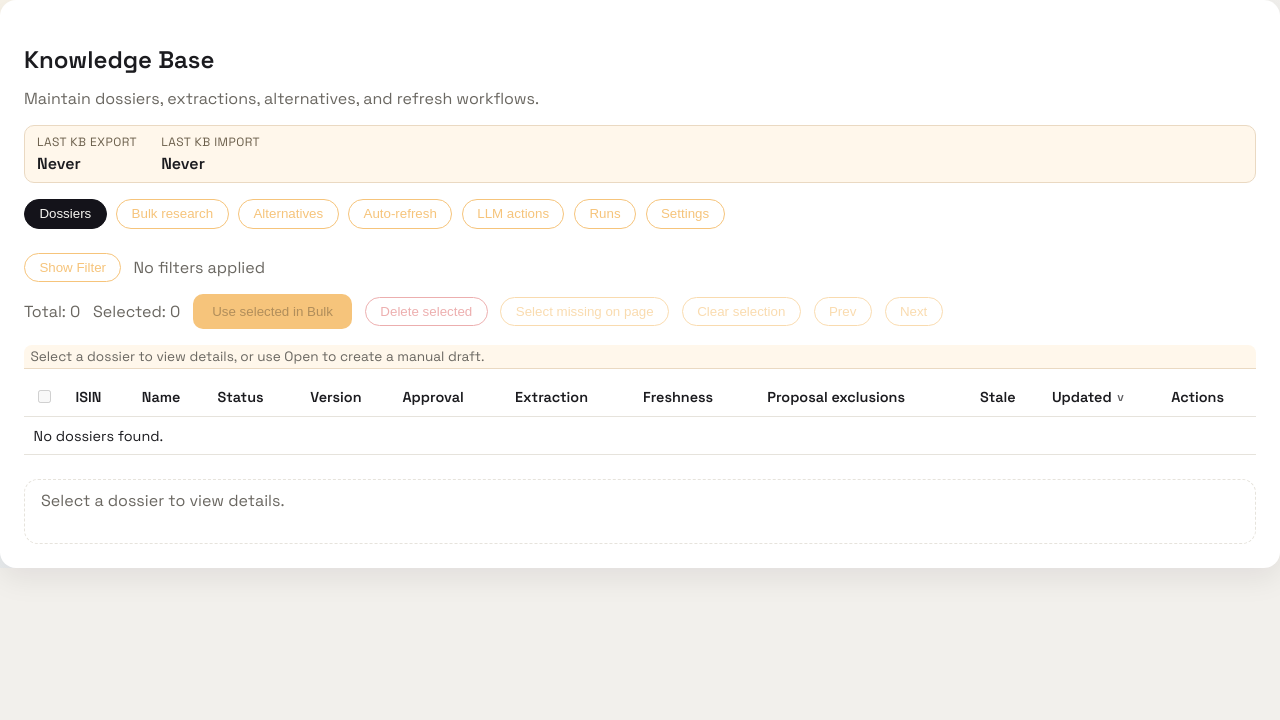
Test: KnowledgeBaseView › hides dossier filters by default and toggles them without reloading data
Click the button "Show Filter" at (73, 268), box [24, 253, 122, 282]
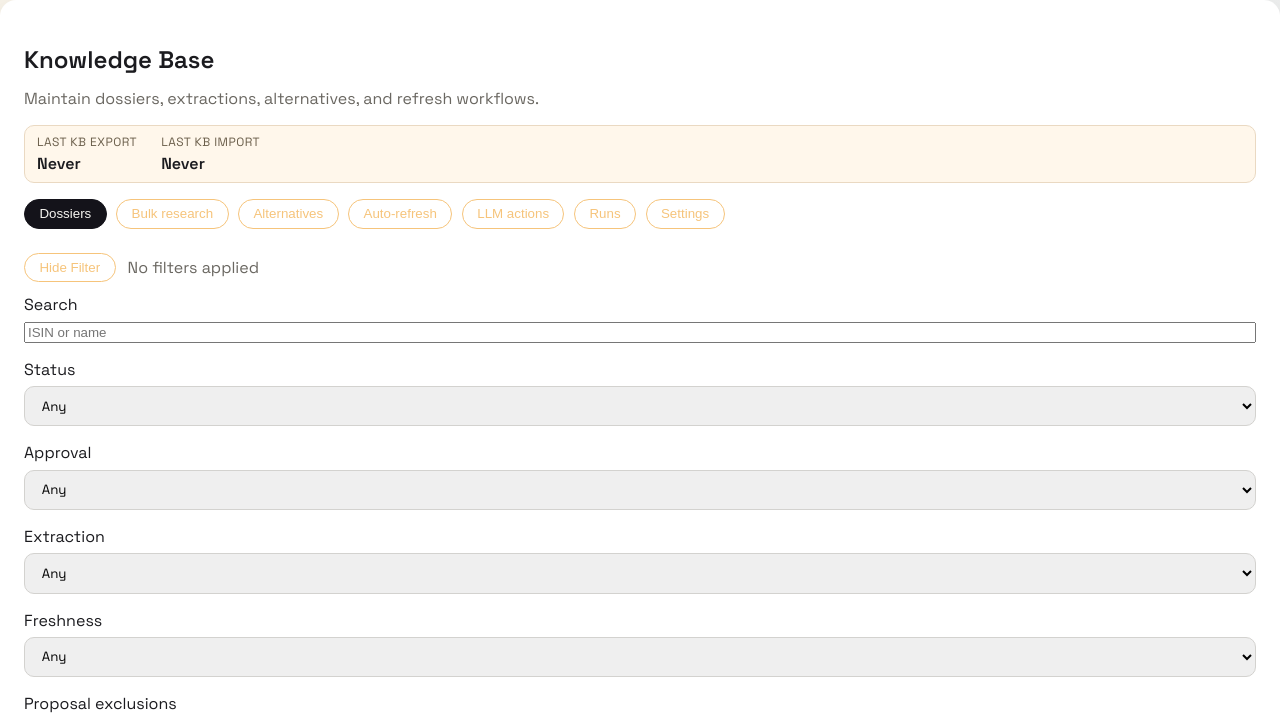
Result: the button "Hide Filter" is shown at [24, 253, 116, 282]
Result: the button "Hide Filter" is expanded at [24, 253, 116, 282]
Type "alpha" into the field with placeholder "ISIN or name" at (640, 332), box [24, 322, 1256, 343]
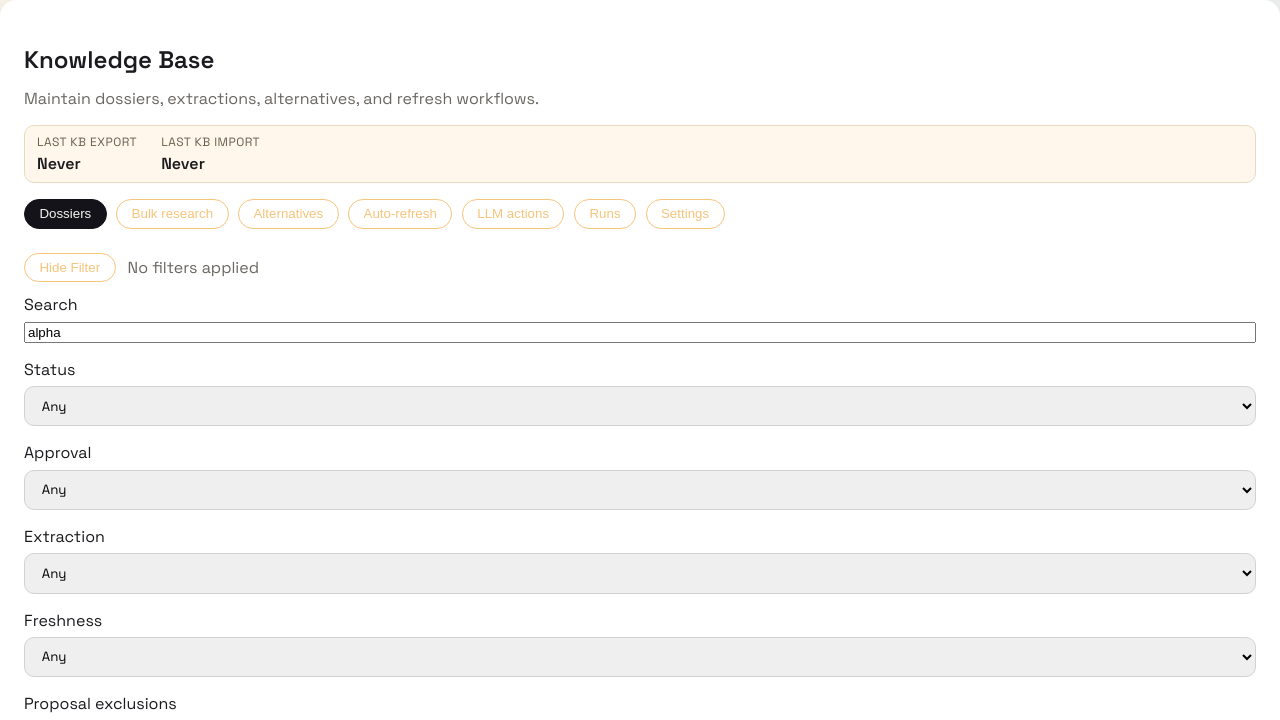
Click the button "Hide Filter" at (70, 268), box [24, 253, 116, 282]
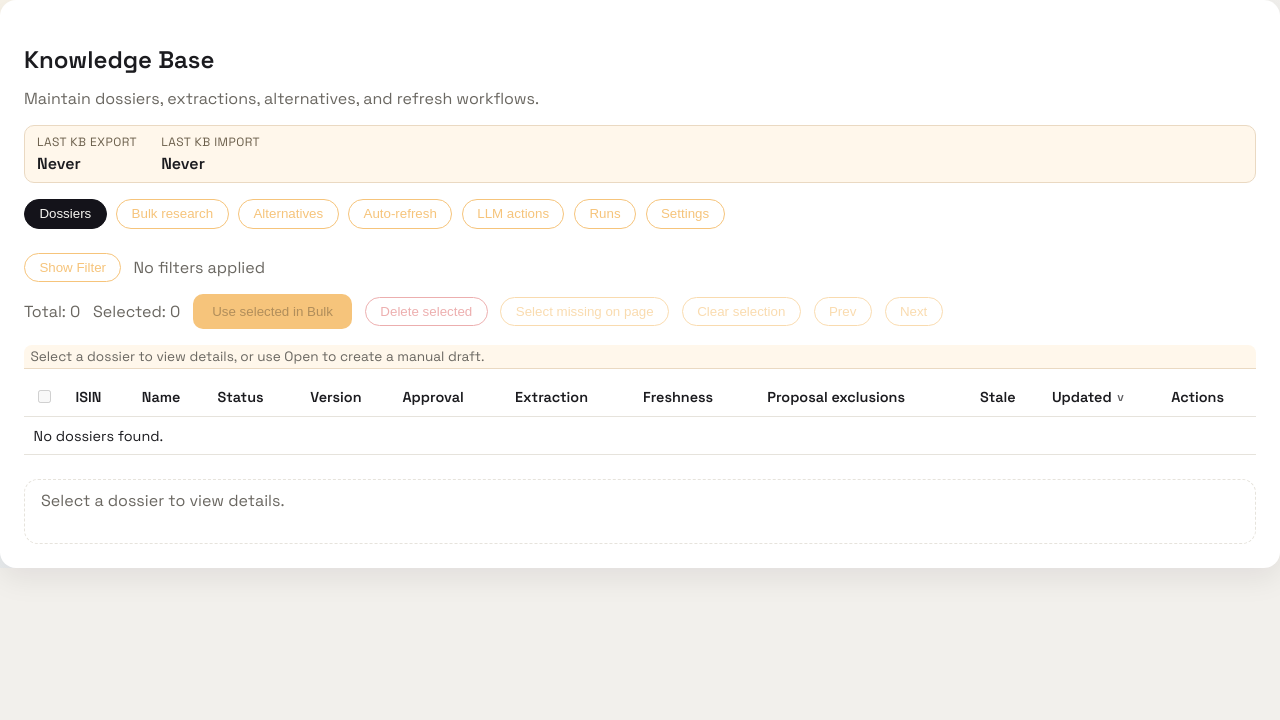
Expected: the text "No filters applied" is shown, [134, 257, 265, 278]
Result: the button "Show Filter" is shown at [24, 253, 122, 282]
